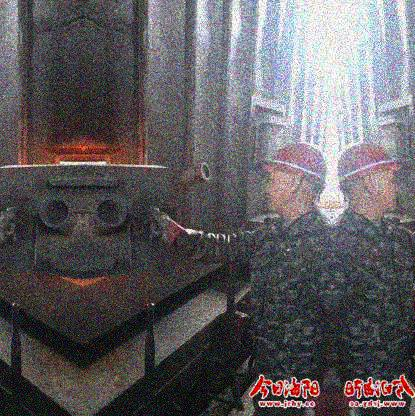helmet: (263, 142, 328, 217), (338, 142, 401, 217)
